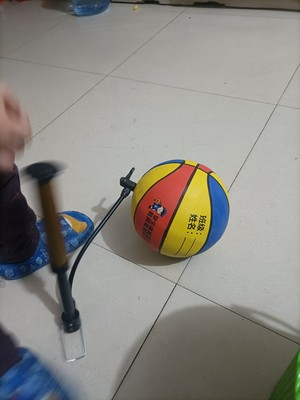ball: (130, 159, 231, 259)
